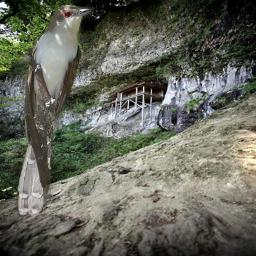Cuckoo: (15, 2, 95, 216)
